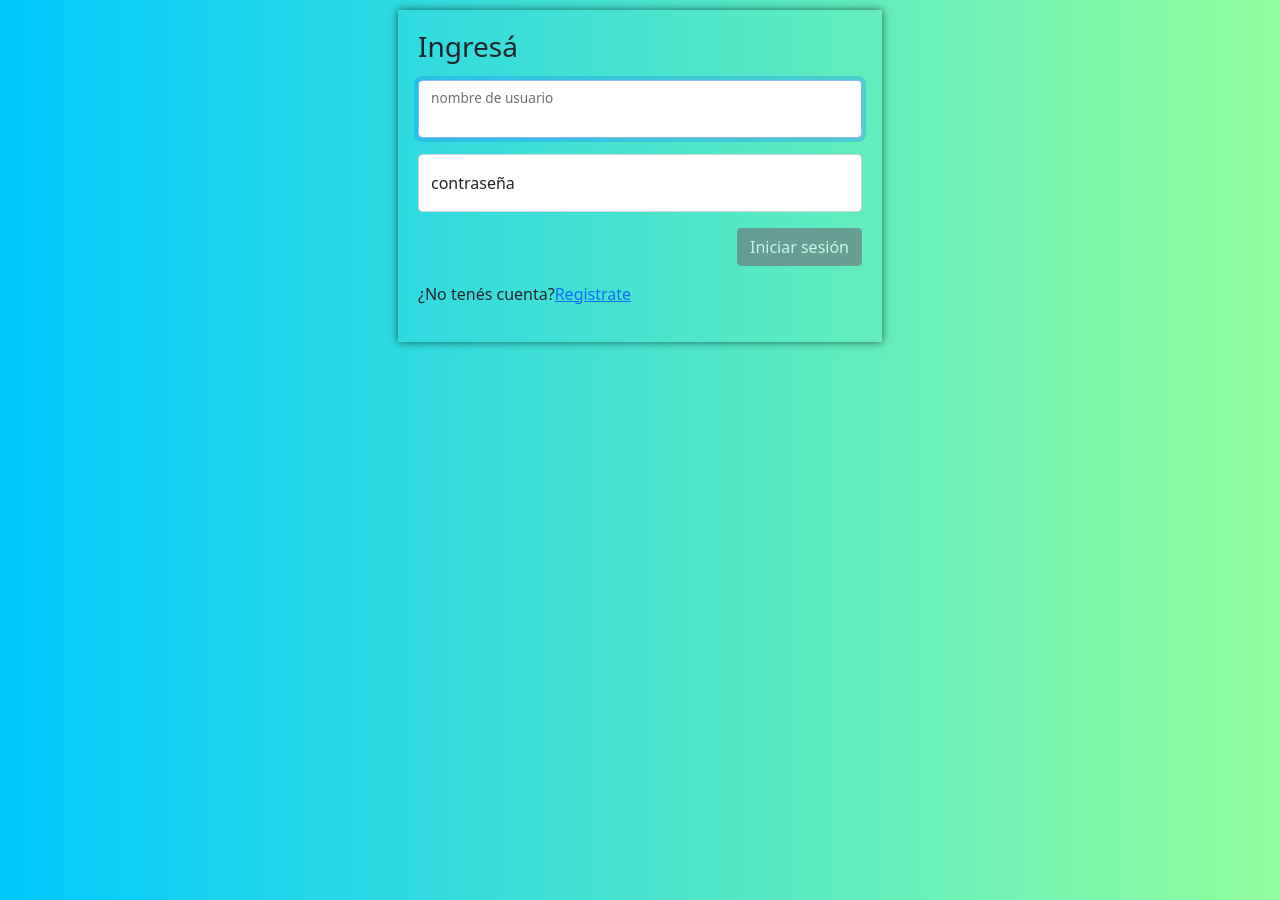
Test: Login › should pass with valid data
Type "luios" into the field with test id "username". click: (640, 109)
box: [418,80,862,138]
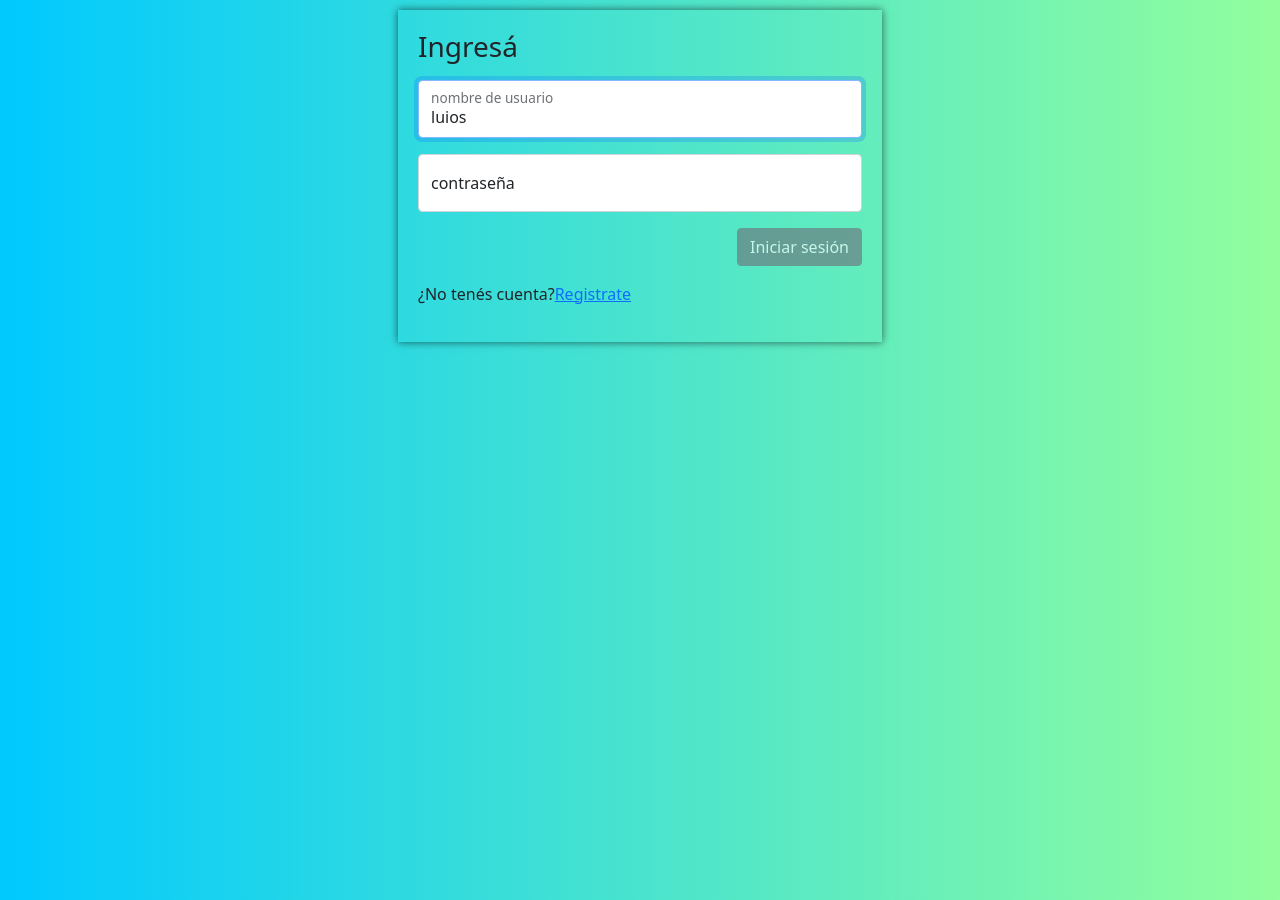
Type "123456" into the password field with test id "password". click: (640, 183)
box: [418,154,862,212]
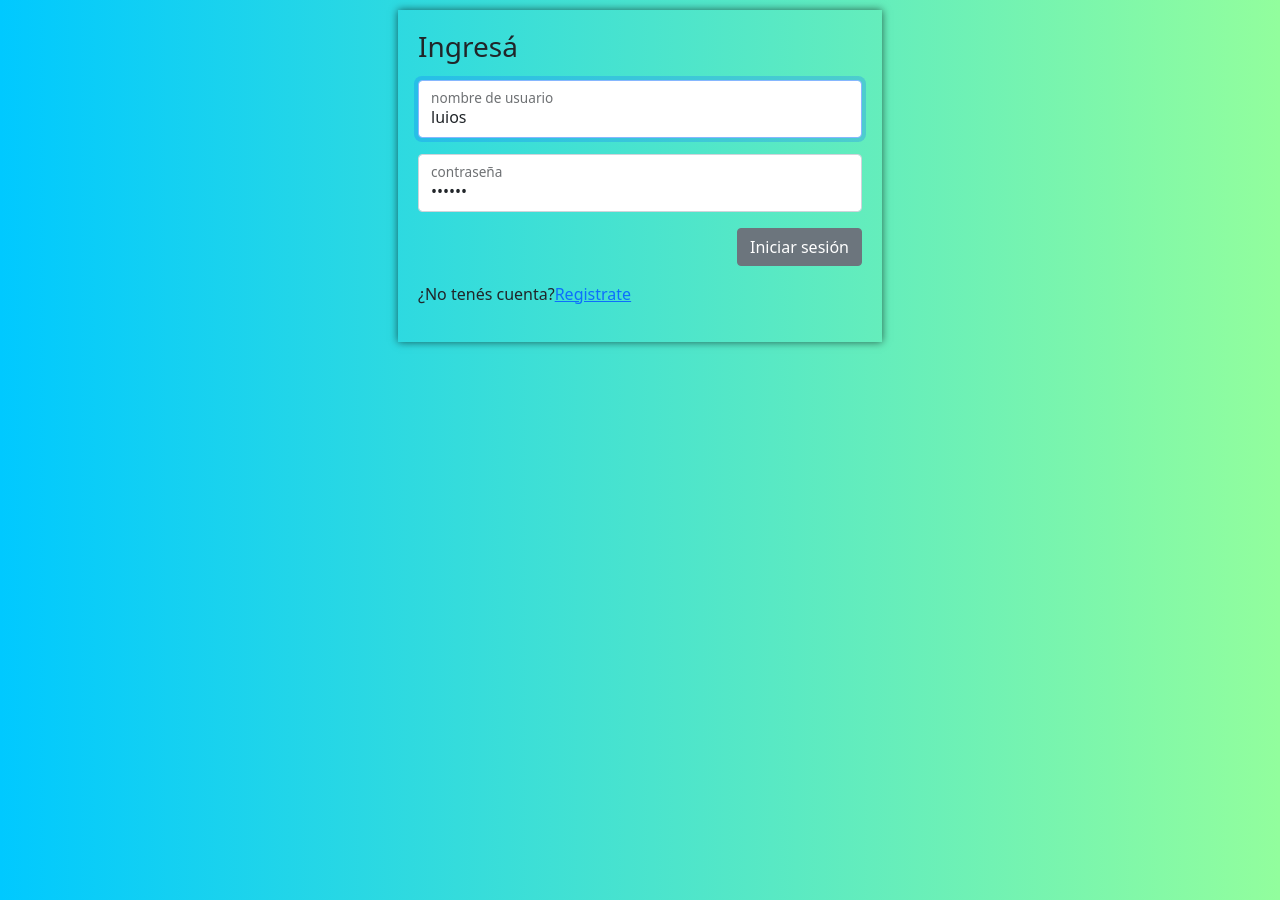
Now the button "Iniciar sesión" is enabled, box [737,228,862,266]
